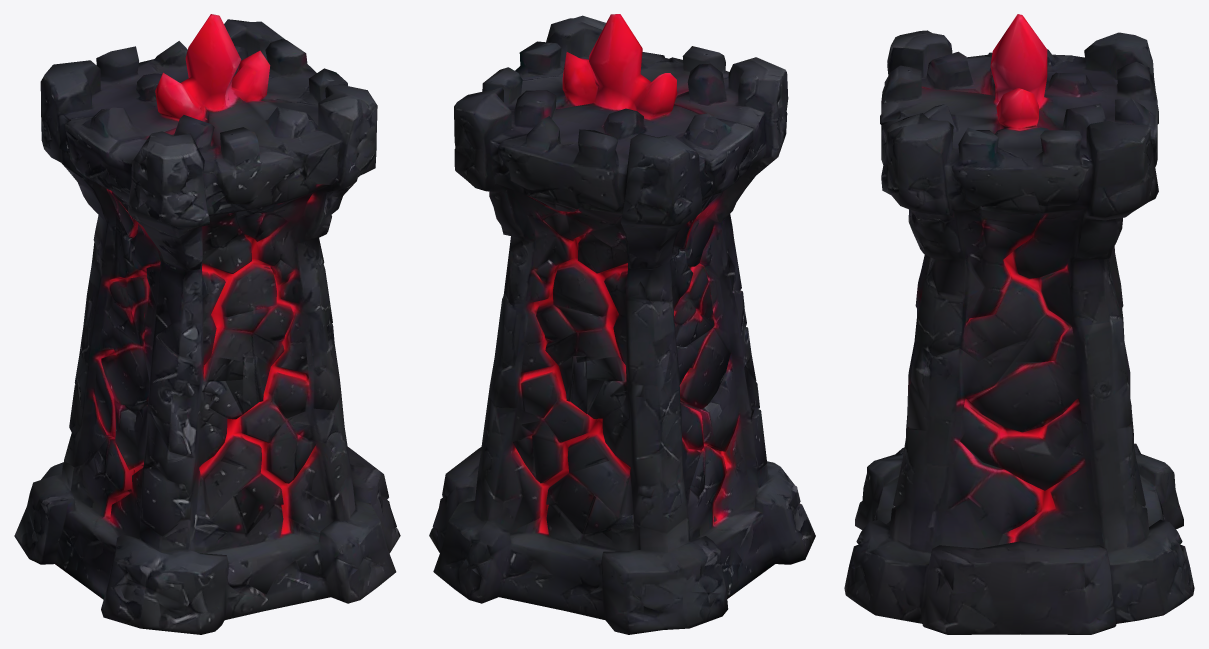
Rendered from torre_trevas.glb.
The picture shows the model from 3 angles, left to right: view 1: azimuth 30°, elevation 25°; view 2: azimuth 150°, elevation 25°; view 3: azimuth 270°, elevation 25°; orthographic projection. The views are drawn at different scales.
Parts seen in each view (by area): view 1: tripo_node_9c2689d5-1d38-4c1d-8623-a34d991ca2a5; view 2: tripo_node_9c2689d5-1d38-4c1d-8623-a34d991ca2a5; view 3: tripo_node_9c2689d5-1d38-4c1d-8623-a34d991ca2a5.
Part boxes in pixels (x1=…): tripo_node_9c2689d5-1d38-4c1d-8623-a34d991ca2a5: x1=14, y1=14, x2=400, y2=634; tripo_node_9c2689d5-1d38-4c1d-8623-a34d991ca2a5: x1=429, y1=14, x2=815, y2=634; tripo_node_9c2689d5-1d38-4c1d-8623-a34d991ca2a5: x1=844, y1=14, x2=1194, y2=634.
Size of the model in its own units: 0.5722 by 0.9778 by 0.5645.
1 material, 1 textured.
